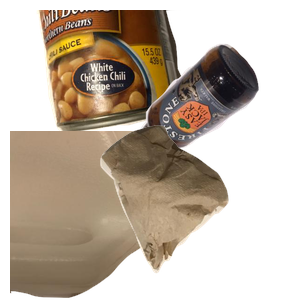glass: (120, 41, 300, 196)
metal: (34, 10, 213, 135)
plastic: (10, 131, 196, 300)
trash: (98, 123, 300, 300)
